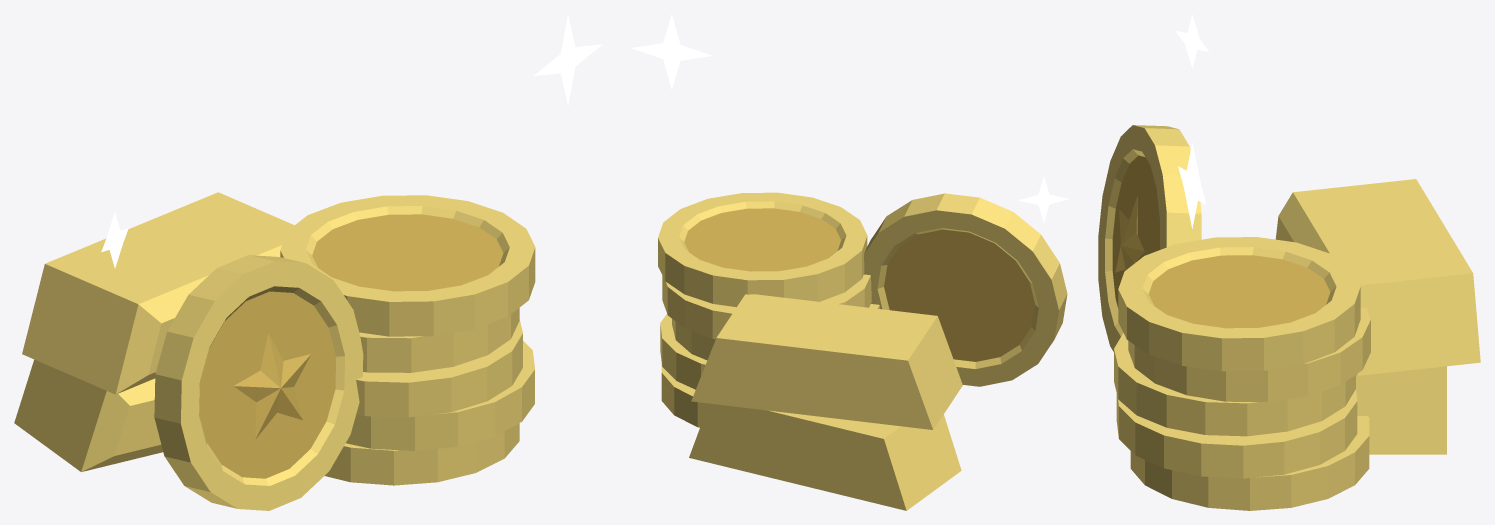
The model's file is item_gold.glb.
3 views of the same model, side by side, from view 1: azimuth 30°, elevation 25°; view 2: azimuth 150°, elevation 25°; view 3: azimuth 270°, elevation 25° (orthographic). The views are drawn at different scales.
Visible parts, largest first — view 1: item_gold; view 2: item_gold; view 3: item_gold.
Boxes of the visible parts, <box> form: item_gold: <box>14,14,602,510</box>; item_gold: <box>631,14,1069,510</box>; item_gold: <box>1098,14,1480,510</box>.
Bounding box in the file's own units: 0.9377 × 0.7 × 0.6309.
